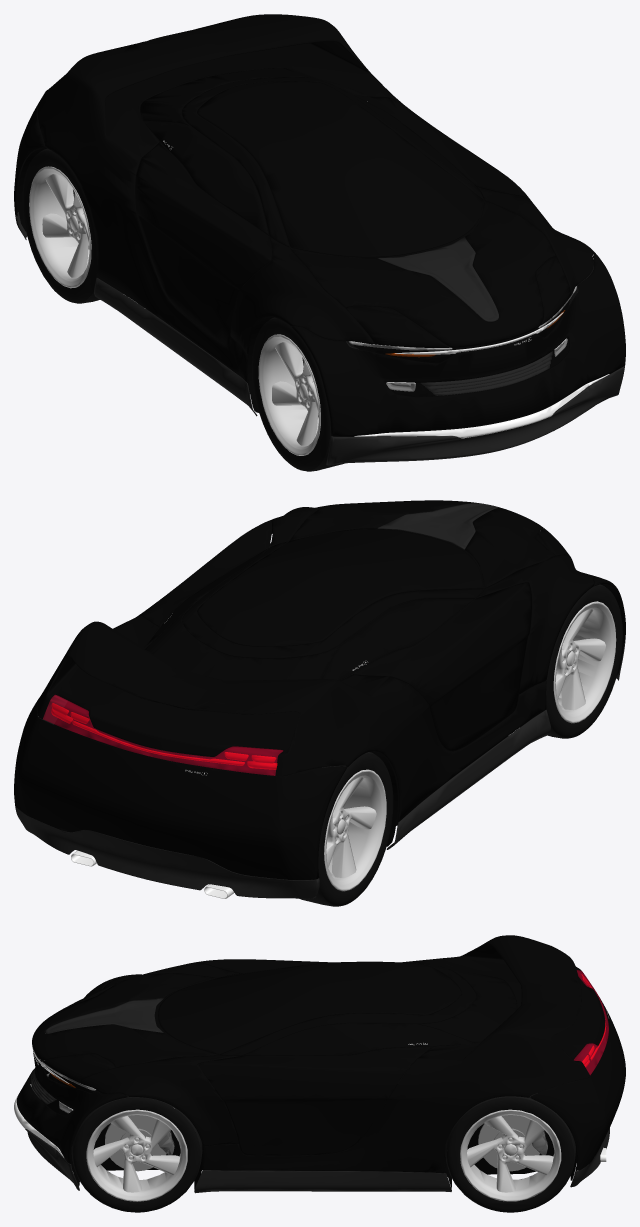
File: coupe.glb
3 views of the same model, one above another, from view 1: azimuth 30°, elevation 25°; view 2: azimuth 150°, elevation 25°; view 3: azimuth 270°, elevation 25° (orthographic). The views are drawn at different scales.
Parts seen in each view (by area): view 1: Object_11, Object_7, Object_21, Object_24, Object_8, Object_10, Object_18, Object_20; view 2: Object_11, Object_7, Object_21, Object_24, Object_8, Object_10, Object_2, Object_4, Object_9, Object_18; view 3: Object_11, Object_7, Object_24, Object_21, Object_8, Object_10, Object_6, Object_9, Object_2, Object_18, Object_20, Object_3.
Part boxes in pixels (left/top/right/bottom): Object_11: left=14, top=14, right=625, bottom=436; Object_7: left=140, top=68, right=483, bottom=257; Object_21: left=15, top=212, right=624, bottom=465; Object_24: left=29, top=166, right=320, bottom=455; Object_8: left=22, top=150, right=593, bottom=470; Object_10: left=18, top=106, right=582, bottom=437; Object_18: left=349, top=286, right=609, bottom=438; Object_20: left=347, top=285, right=578, bottom=396; Object_11: left=14, top=500, right=625, bottom=879; Object_7: left=144, top=529, right=483, bottom=680; Object_21: left=15, top=503, right=625, bottom=898; Object_24: left=324, top=601, right=616, bottom=891; Object_8: left=76, top=542, right=622, bottom=906; Object_10: left=54, top=528, right=624, bottom=846; Object_2: left=43, top=694, right=282, bottom=775; Object_4: left=51, top=703, right=277, bottom=769; Object_9: left=39, top=544, right=605, bottom=906; Object_18: left=71, top=850, right=234, bottom=898; Object_11: left=16, top=935, right=625, bottom=1172; Object_7: left=158, top=962, right=516, bottom=1055; Object_24: left=86, top=1108, right=561, bottom=1201; Object_21: left=24, top=998, right=609, bottom=1193; Object_8: left=73, top=1097, right=574, bottom=1212; Object_10: left=33, top=985, right=606, bottom=1189; Object_6: left=105, top=1115, right=539, bottom=1171; Object_9: left=71, top=1092, right=575, bottom=1204; Object_2: left=574, top=970, right=608, bottom=1075; Object_18: left=14, top=1048, right=606, bottom=1161; Object_20: left=33, top=1049, right=96, bottom=1114; Object_3: left=158, top=1131, right=547, bottom=1155.
Bounding box in the file's own units: 1.84 × 1.24 × 3.96.
